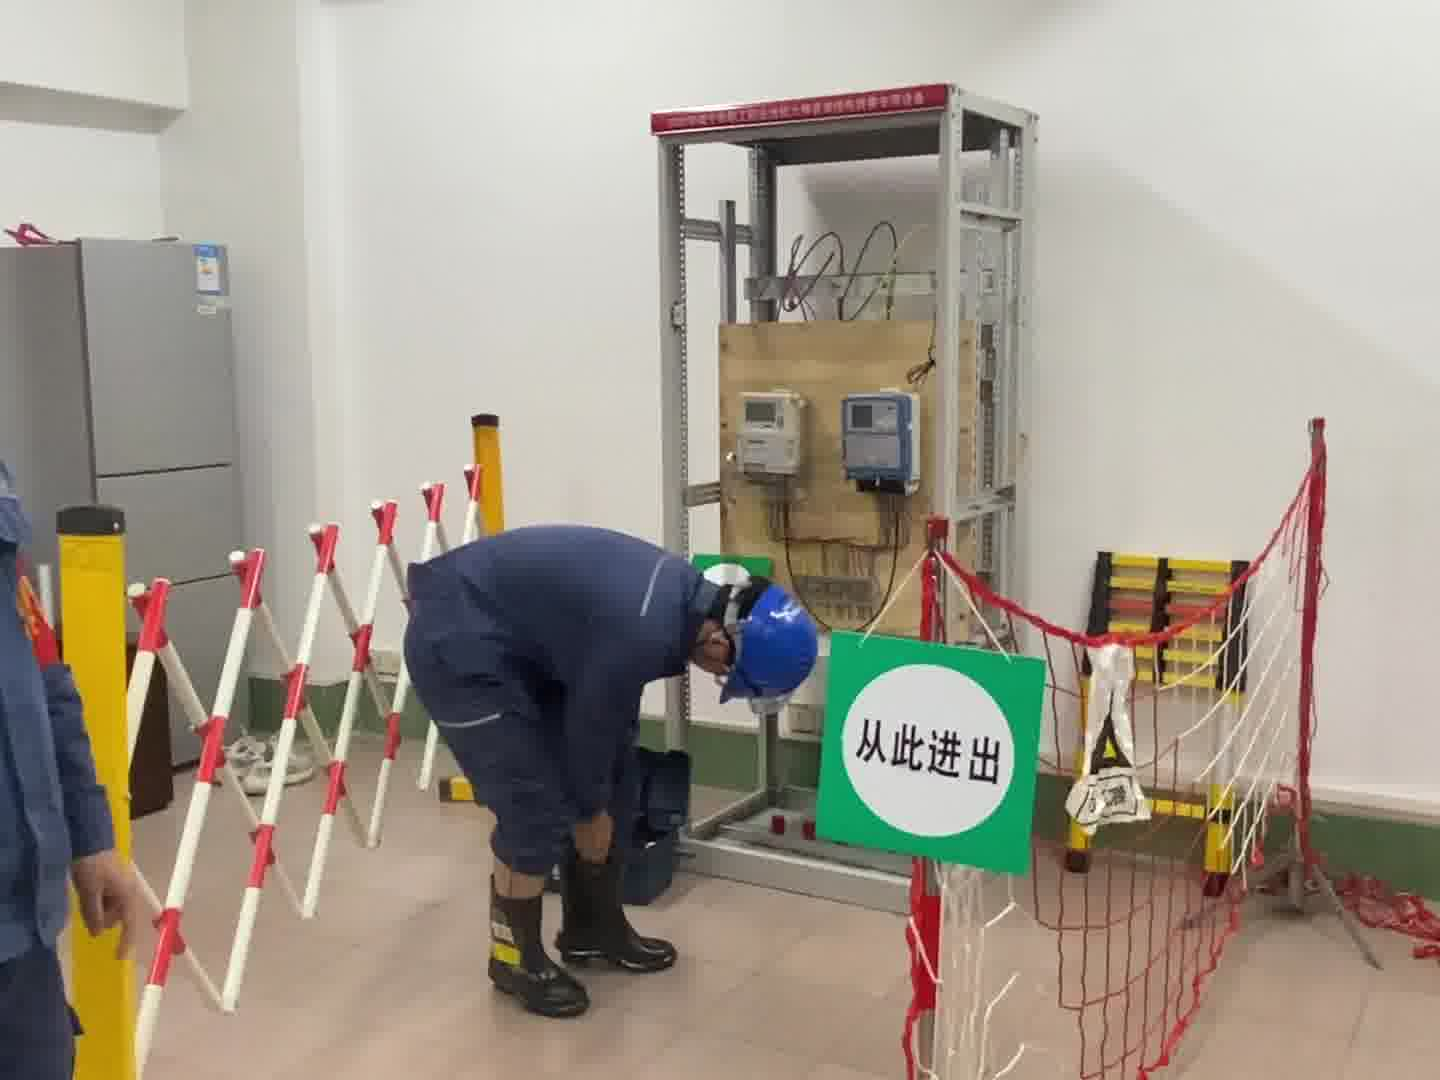badge: (13, 564, 59, 666)
downsuit: (420, 694, 571, 856)
halt: (705, 580, 821, 708)
hand: (74, 846, 165, 957)
intosign: (815, 624, 1048, 880)
person: (402, 518, 828, 1008), (1, 440, 169, 1080)
shoe: (483, 879, 594, 1021), (554, 846, 677, 972)
upsuit: (409, 524, 700, 686)
wrongbottom: (479, 825, 559, 897)
